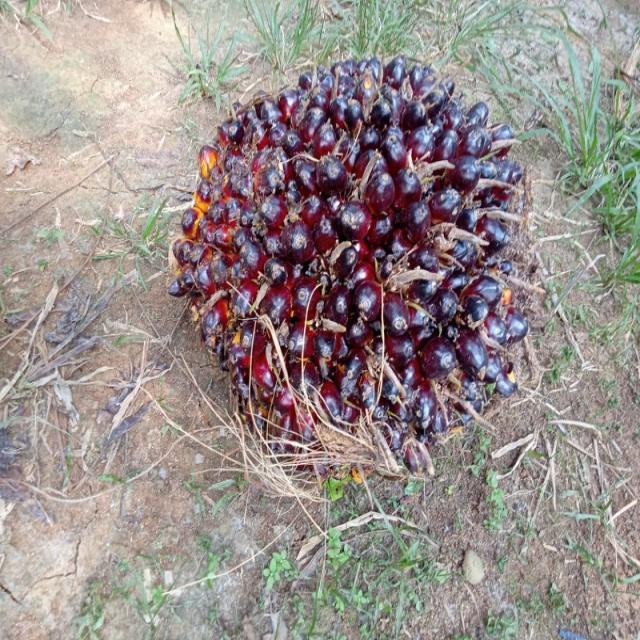fraksi 1: (181, 44, 539, 463)
